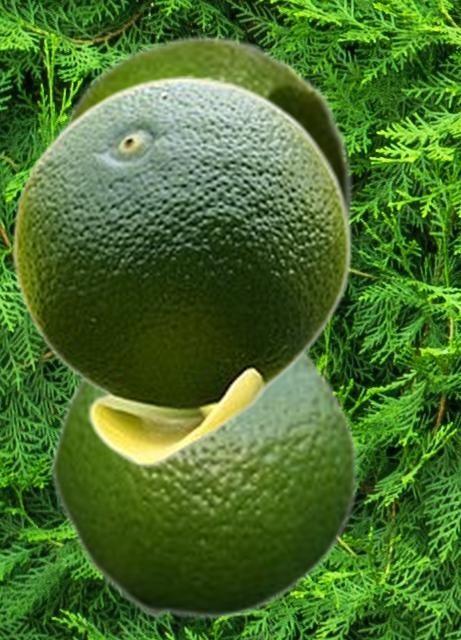calamansi: (12, 76, 351, 466), (48, 350, 359, 619), (52, 34, 354, 239)
